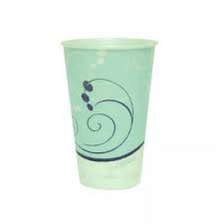paper_cup: (56, 32, 160, 193)
